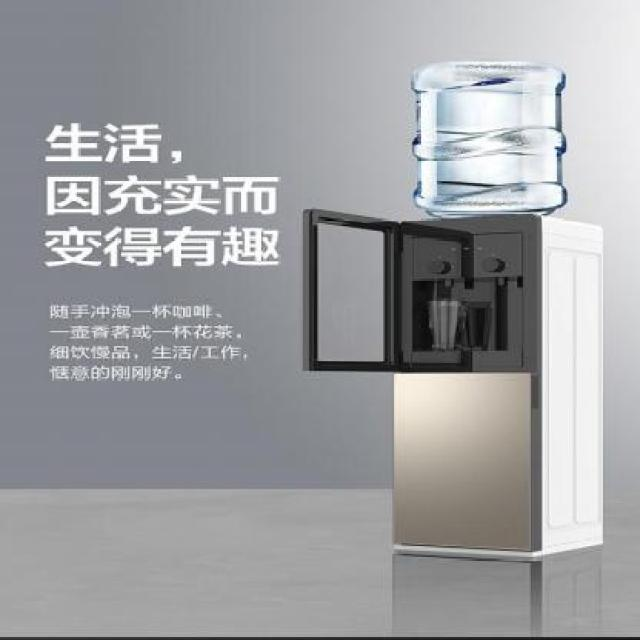cooler: (294, 51, 607, 561)
